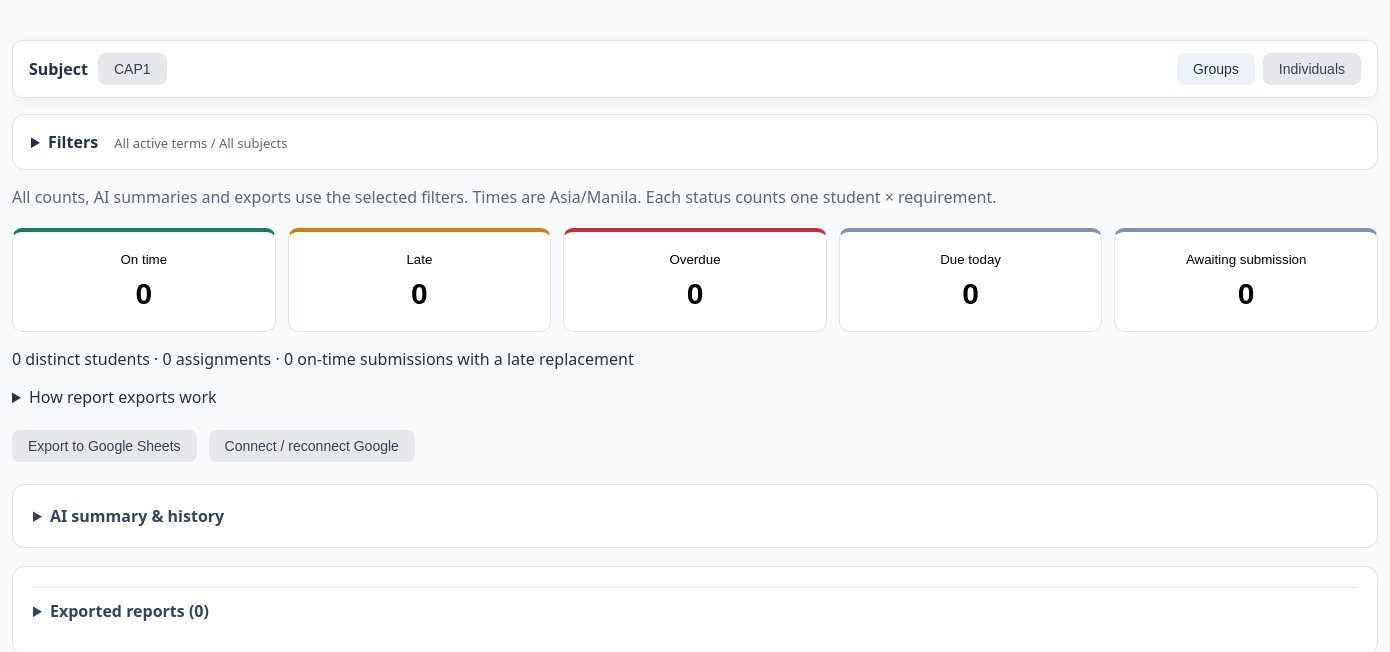
Test case: individual pagination keeps all requirements for each student together
What coordinates should you click on to do the following:
click the button "Individuals"
I would click on:
 (1312, 69)
Its box is [1263,53,1361,85].
(page scrolled)
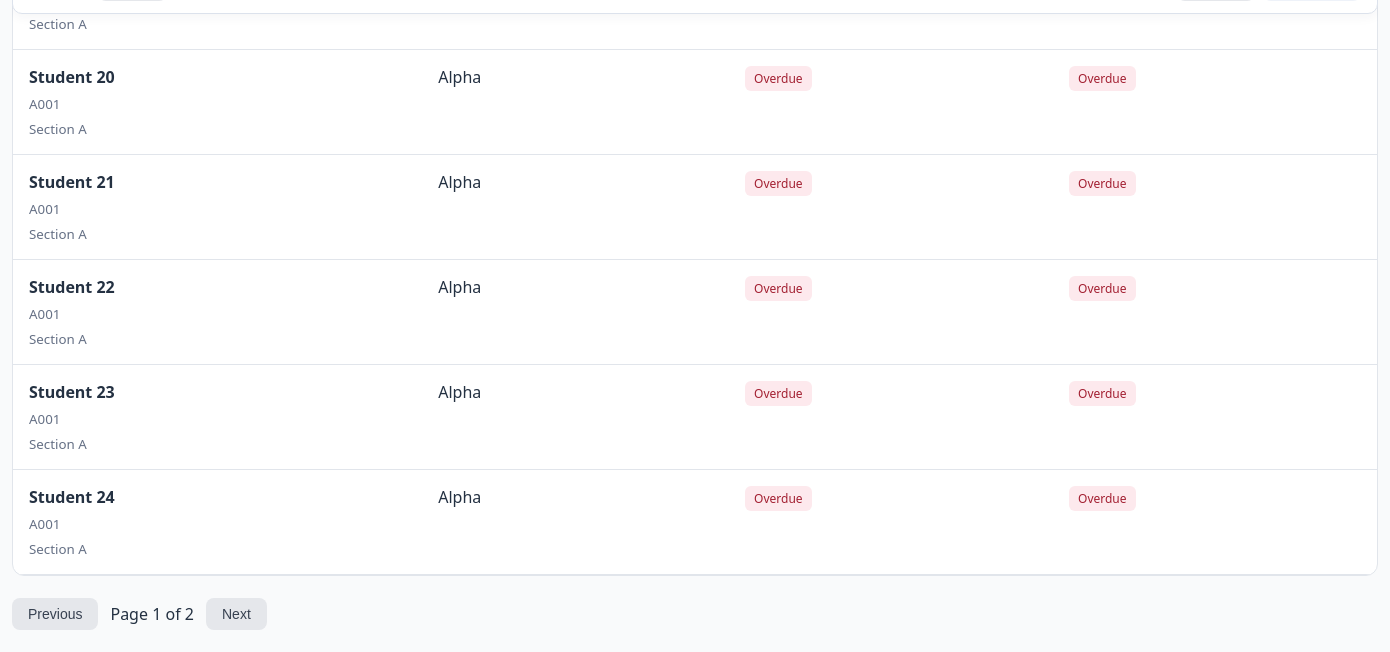
Expected: the button "Next" is shown
What coordinates should you click on to do the following:
click the button "Next"
I would click on:
 (236, 614)
Its box is [206,598,267,630].
(page scrolled)
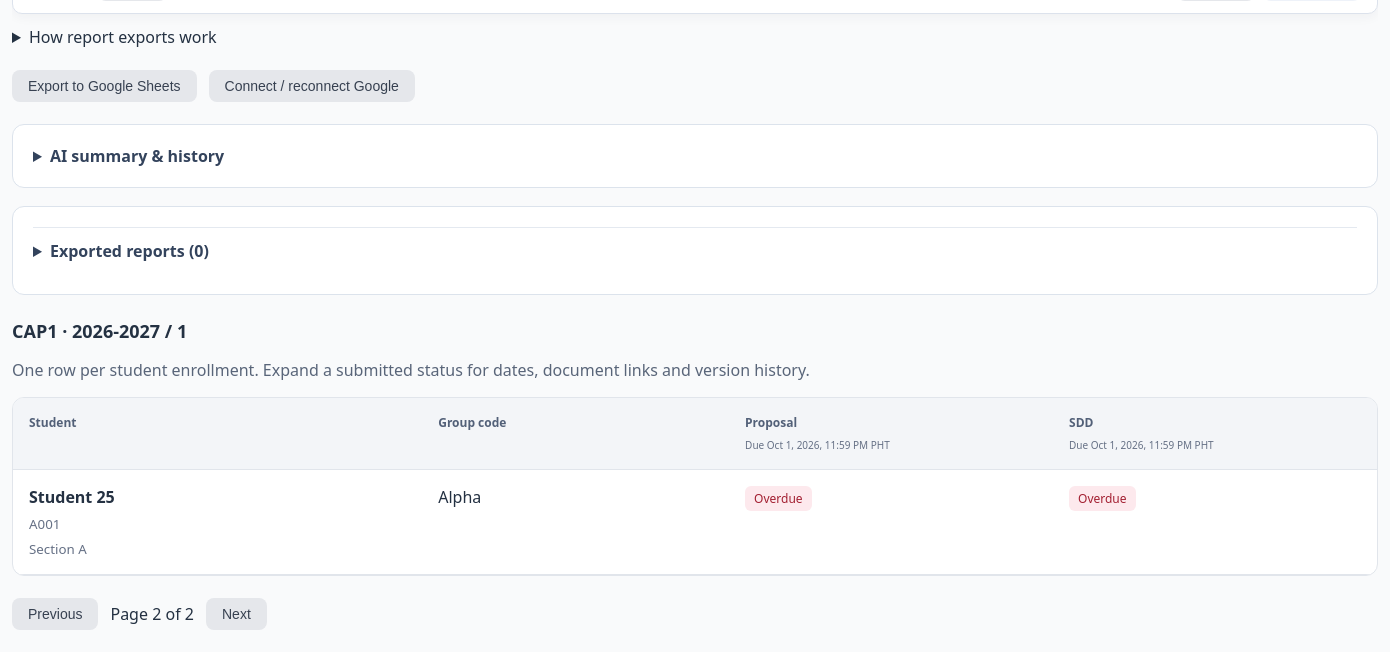
Expected: the number of elements with class "tracking-status" is 2, [745,486,812,511]; [1069,486,1136,511]
Expected: the table shows "Student 25", [29,486,115,508]
